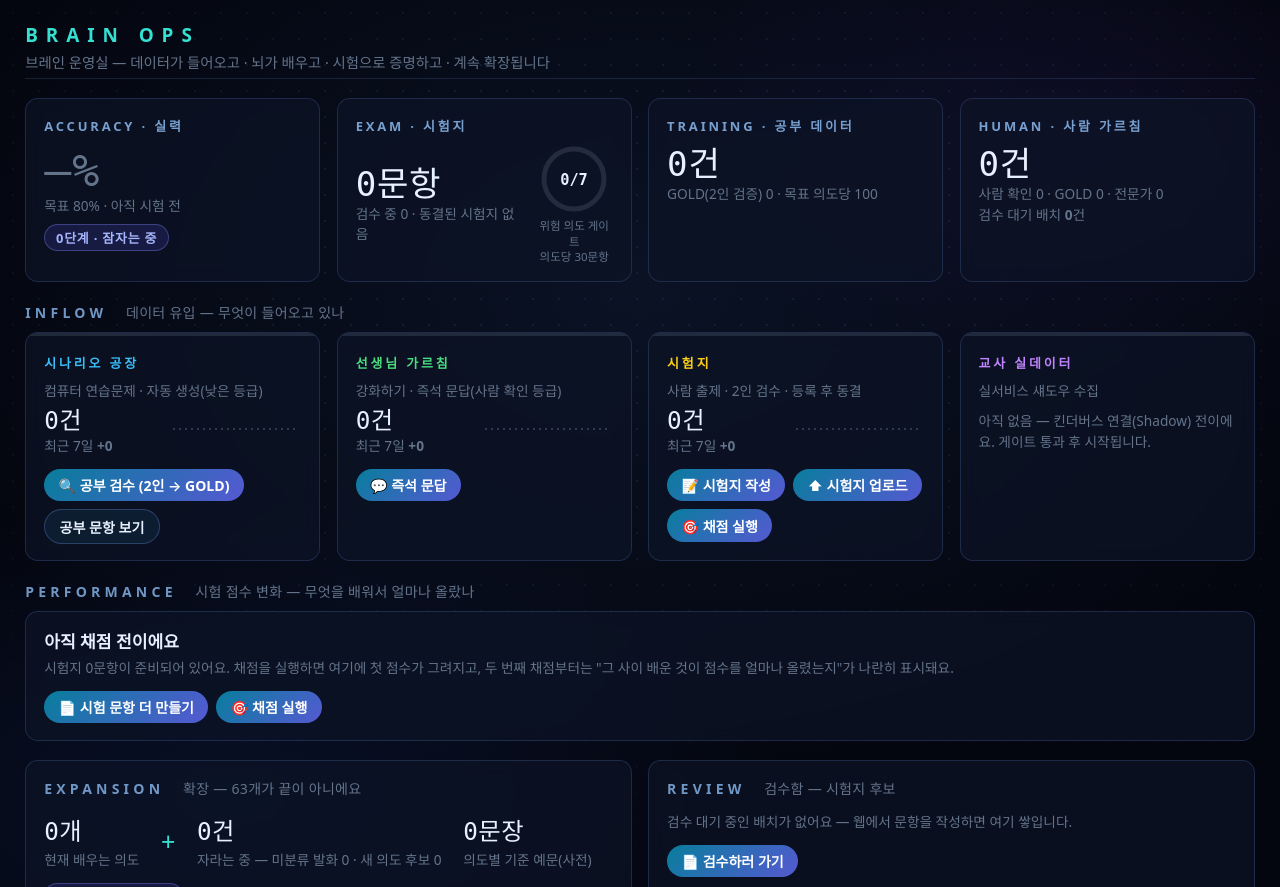
it: 채점 실행 버튼 — PIN 게이트 (대시보드·검수 모달 공용 진입점) › 비밀번호가 틀리면 서버 문구를 그대로 보여주고 입력을 유지한다
This screenshot has width=1280, height=887.
Click the button "🎯 채점 실행" below "사람 출제 · 2인 검수 · 등록 후 동결". click: (720, 526)
box: [667,510,772,542]
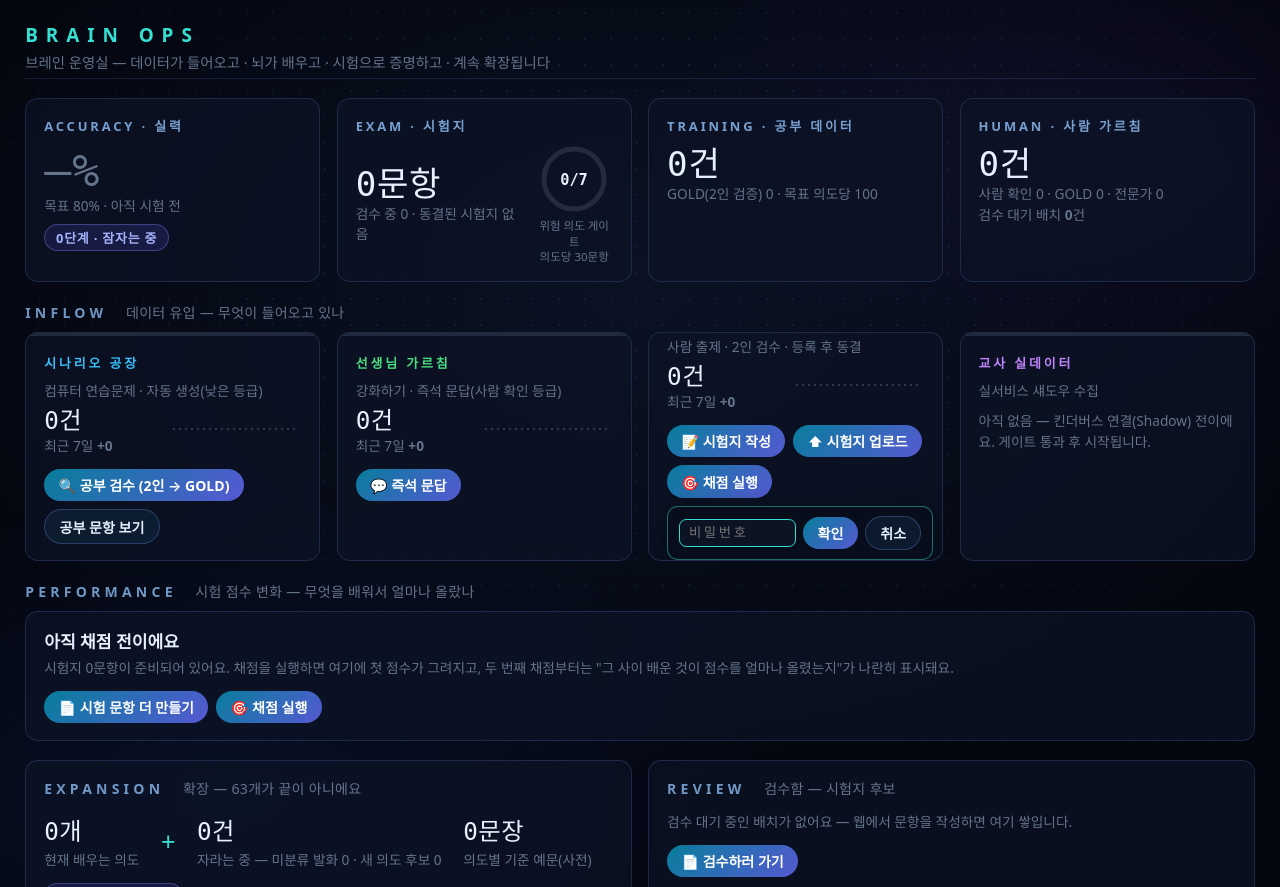
Type "0000" into the password field named "채점 비밀번호". click: (737, 533)
box: [679,519,796,547]
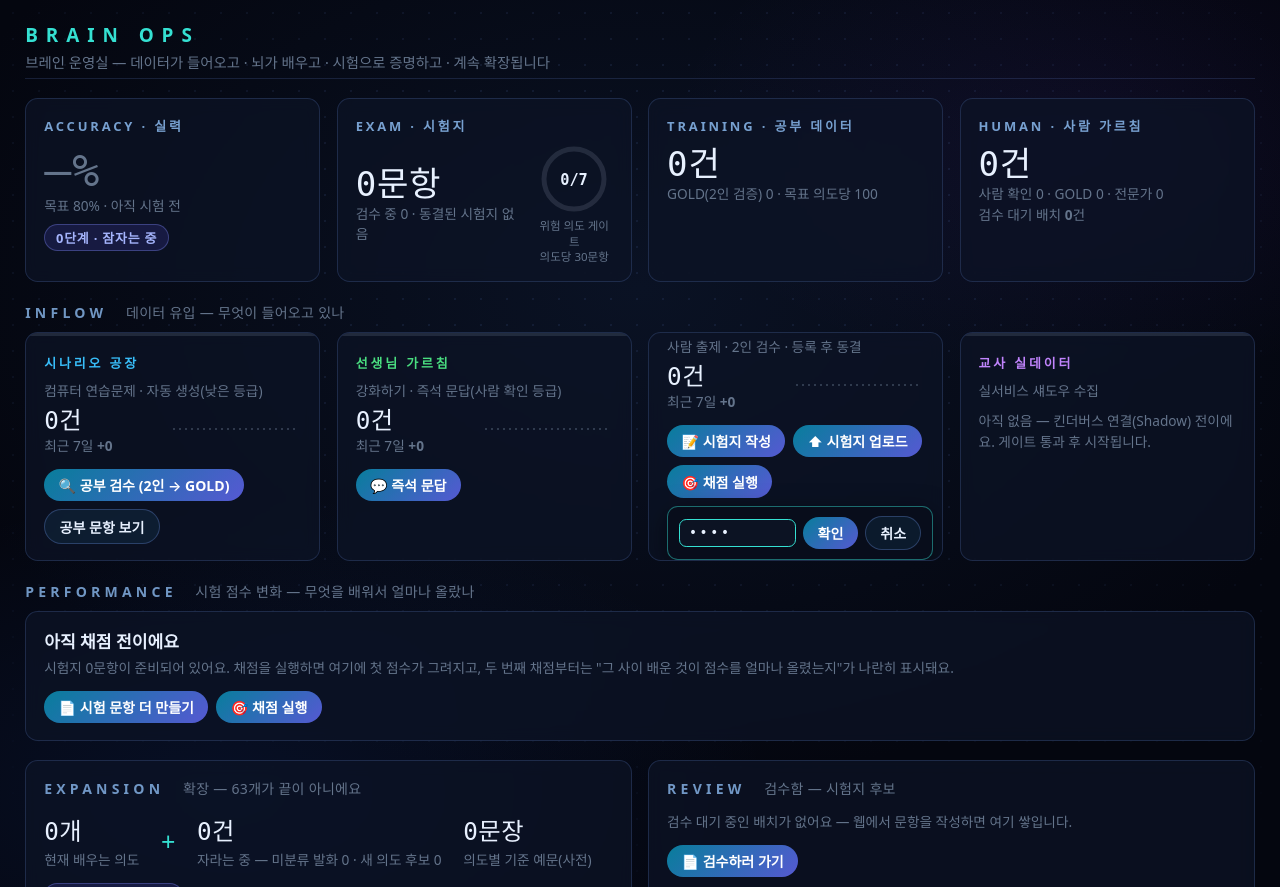
Click the button "확인". click: (830, 533)
box: [803,517,858,549]
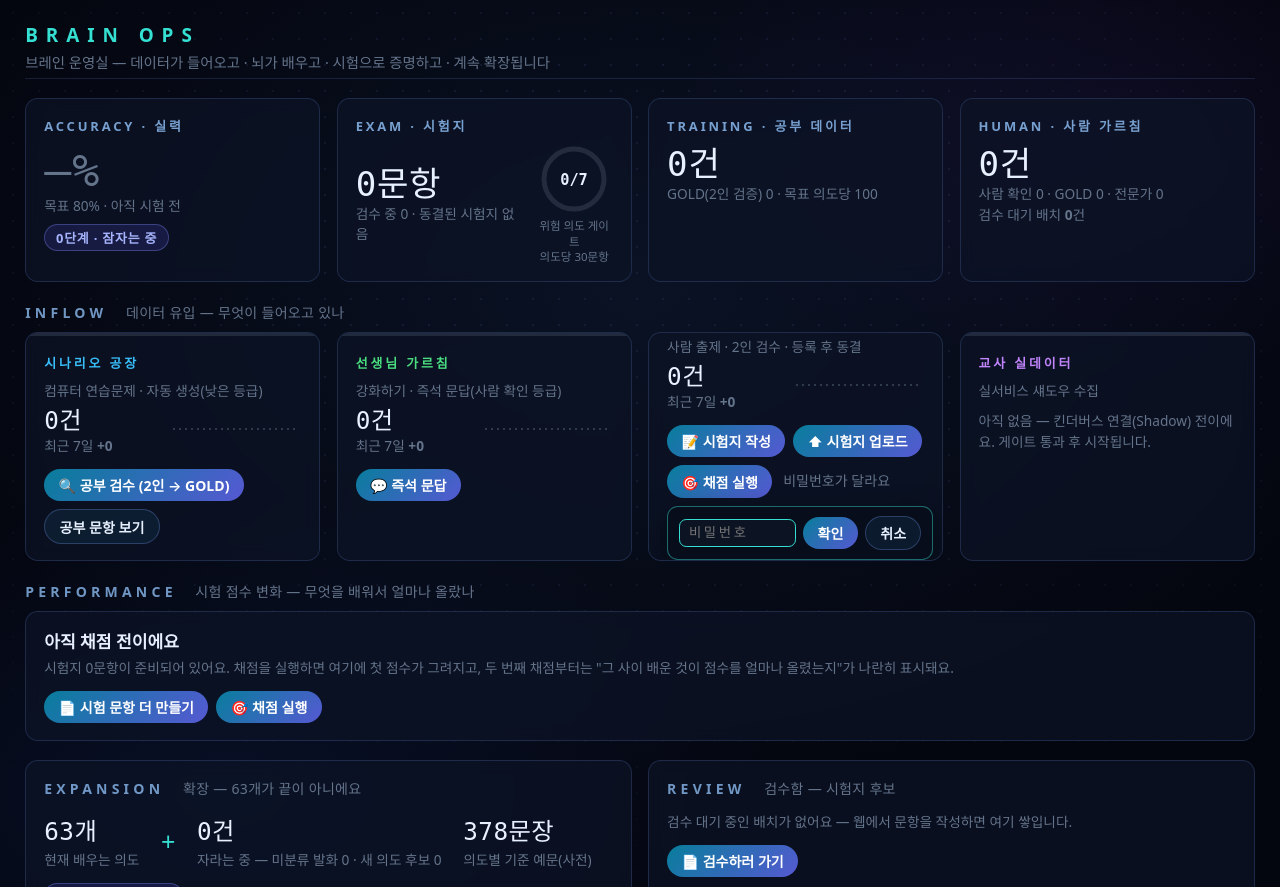
Now the password field named "채점 비밀번호" is shown, box [679,519,796,547]
Now the text "비밀번호가 달라요" is shown, box [783,472,890,491]
